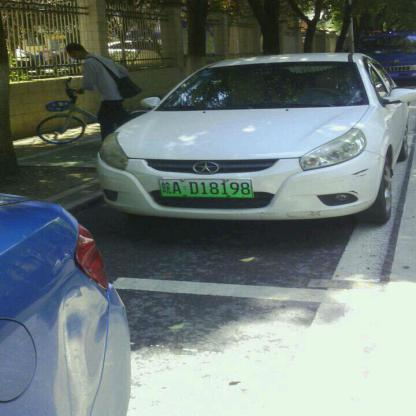lp: (159, 178, 252, 196)
